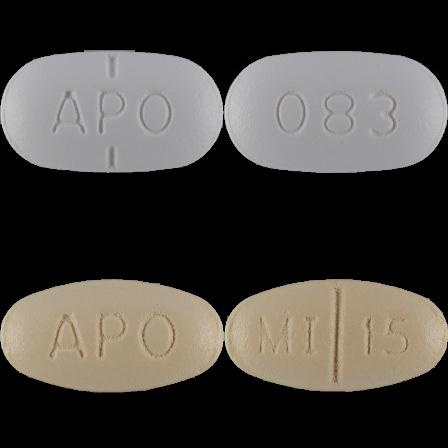55154-6673: (0, 0, 224, 224)
